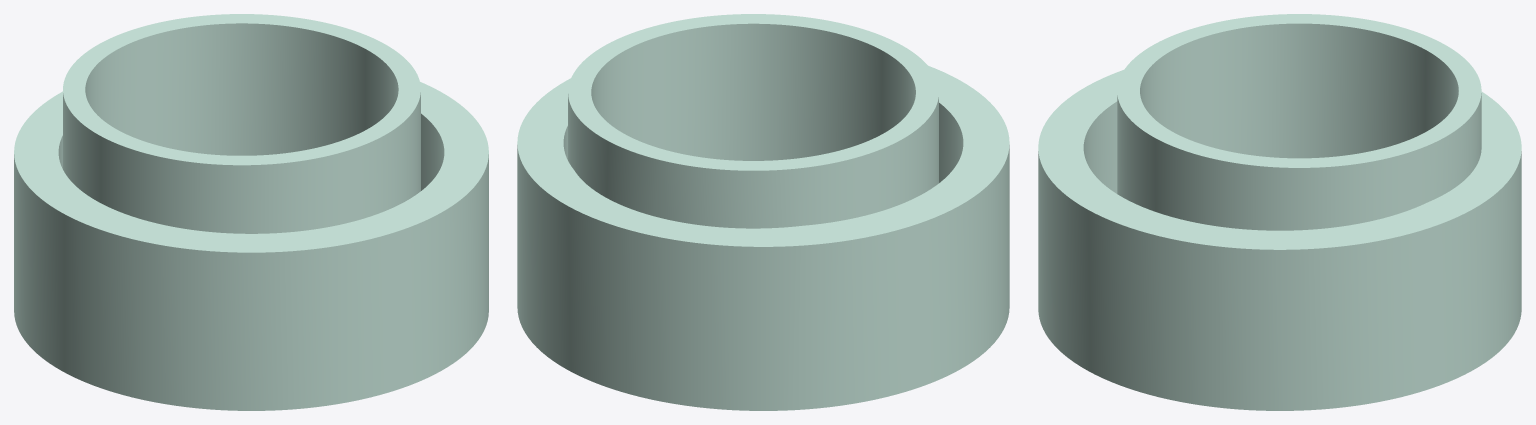
3 views of the same model, side by side, from view 1: azimuth 30°, elevation 25°; view 2: azimuth 150°, elevation 25°; view 3: azimuth 270°, elevation 25° (orthographic). The views are drawn at different scales.
Visible parts, largest first — view 1: Renderer Node; view 2: Renderer Node; view 3: Renderer Node.
Part boxes in pixels (<box>): Renderer Node: <box>14,14,488,410</box>; Renderer Node: <box>517,14,1009,410</box>; Renderer Node: <box>1038,14,1521,410</box>.
Bounding box in the file's own units: 1.51 × 0.75 × 1.51.
